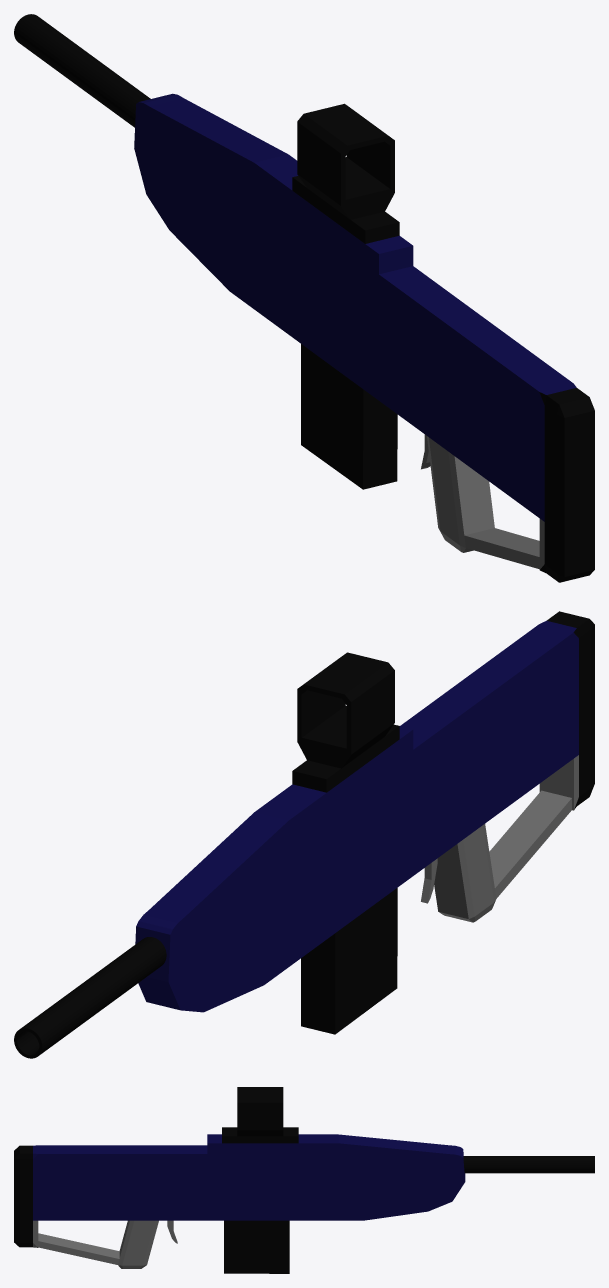
The model's file is MarksmanRifle.fbx.
3 renders of one model, top to bottom at view 1: azimuth 30°, elevation 25°; view 2: azimuth 150°, elevation 25°; view 3: azimuth 270°, elevation 25°, orthographic. The views are drawn at different scales.
Parts seen in each view (by area): view 1: Cube; view 2: Cube; view 3: Cube.
Part boxes in pixels (x1=…): Cube: x1=14, y1=14, x2=594, y2=582; Cube: x1=14, y1=611, x2=594, y2=1058; Cube: x1=14, y1=1087, x2=594, y2=1273.
Size of the model in its own units: 48.12 by 286 by 850.
